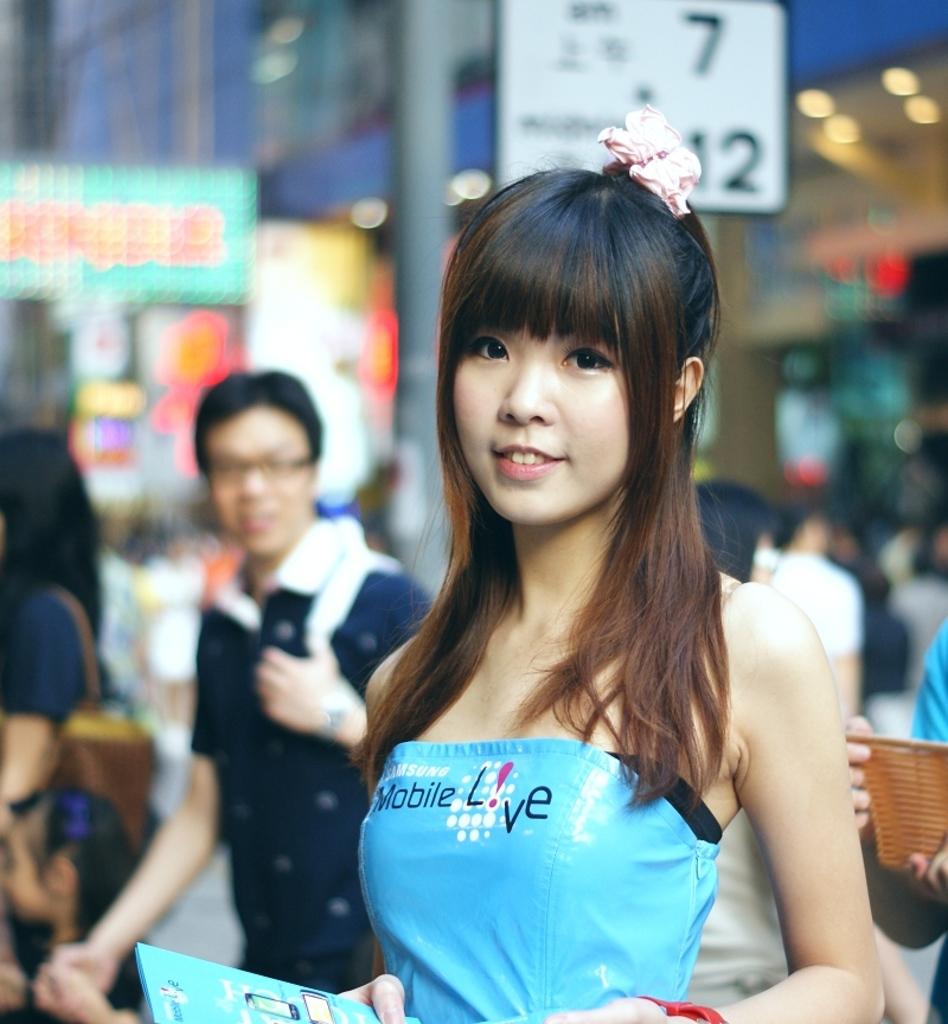Person: (50, 371, 431, 995), (845, 618, 948, 1024)
